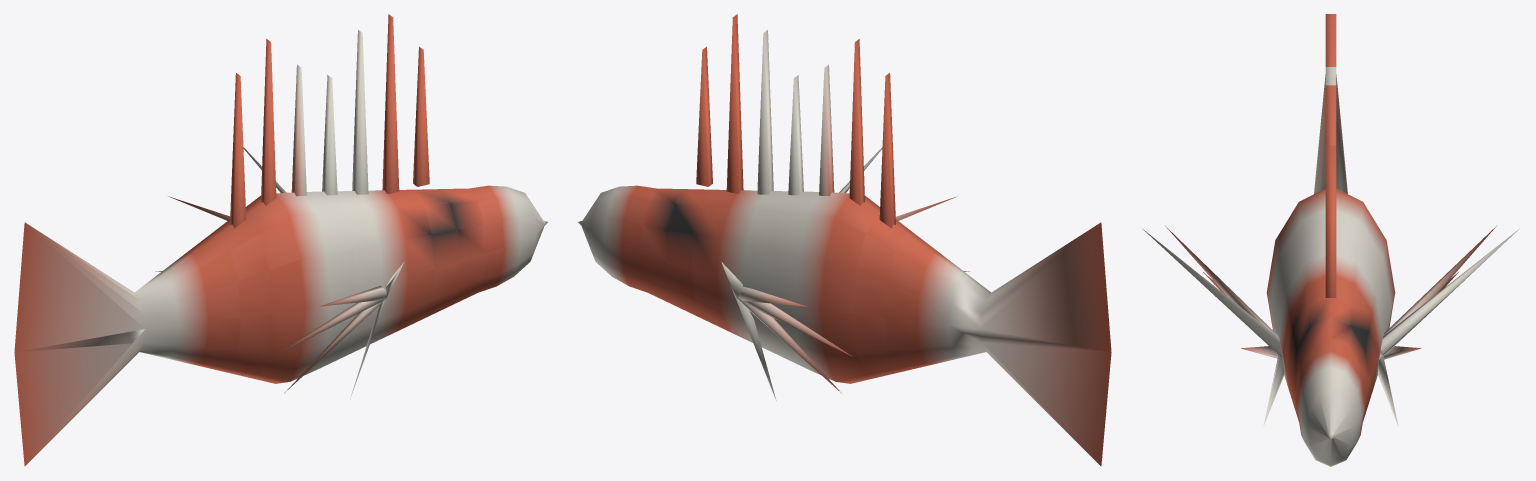
The model's file is Lionfish.glb.
3 views of the same model, side by side, from view 1: azimuth 30°, elevation 25°; view 2: azimuth 150°, elevation 25°; view 3: azimuth 270°, elevation 25° (orthographic). The views are drawn at different scales.
Visible parts, largest first — view 1: Lionfish; view 2: Lionfish; view 3: Lionfish.
Boxes of the visible parts, x1,y1,x2,y2 form: Lionfish: (14, 14, 547, 466); Lionfish: (578, 14, 1111, 466); Lionfish: (1142, 14, 1519, 466).
Bounding box in the file's own units: 1.05 × 0.6896 × 0.5902.
